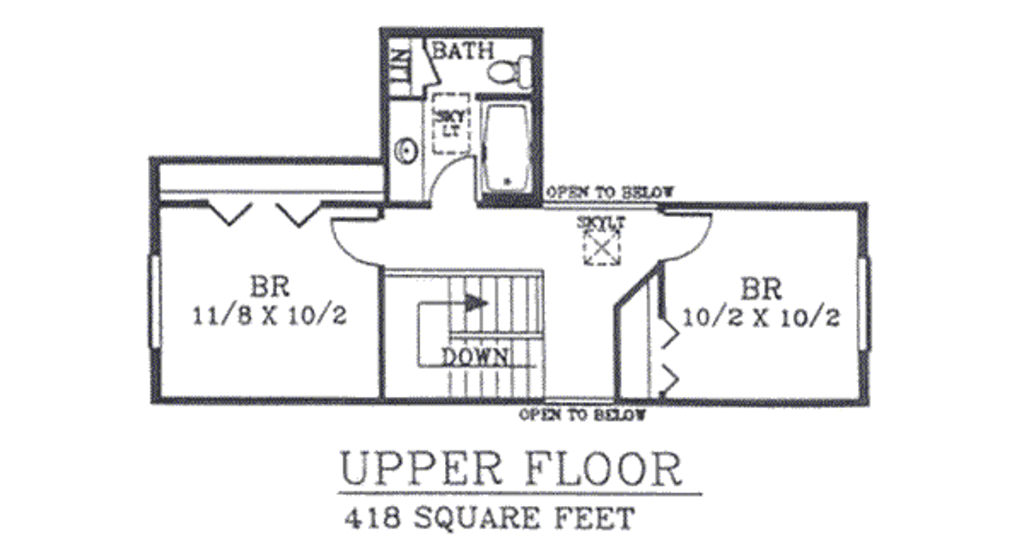door: (654, 204, 721, 264), (330, 213, 385, 267), (430, 156, 481, 206)
large_sink: (478, 51, 512, 90)
small_sink: (389, 118, 426, 197)
stairs: (386, 270, 559, 394)
tub: (479, 94, 541, 196)
window: (852, 252, 879, 351), (144, 254, 168, 348)
